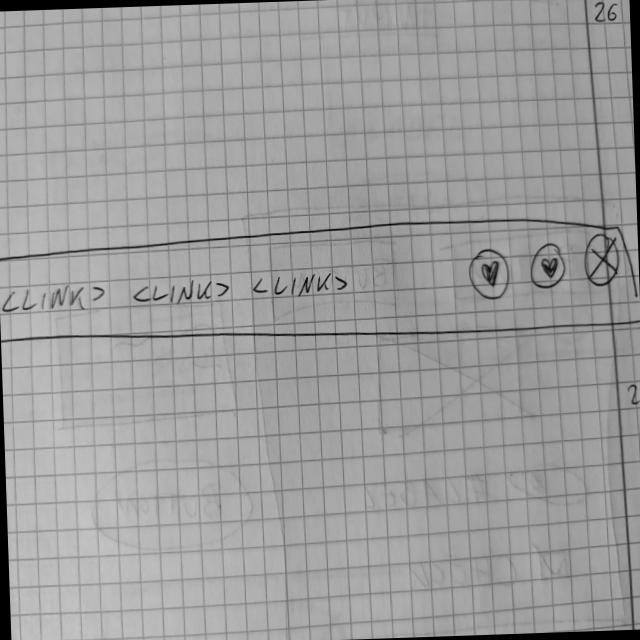container: (0, 207, 640, 352)
icon-button: (464, 244, 510, 304), (526, 240, 568, 291)
image: (582, 228, 622, 289)
link: (0, 280, 109, 318), (129, 274, 233, 310), (250, 268, 352, 302)
